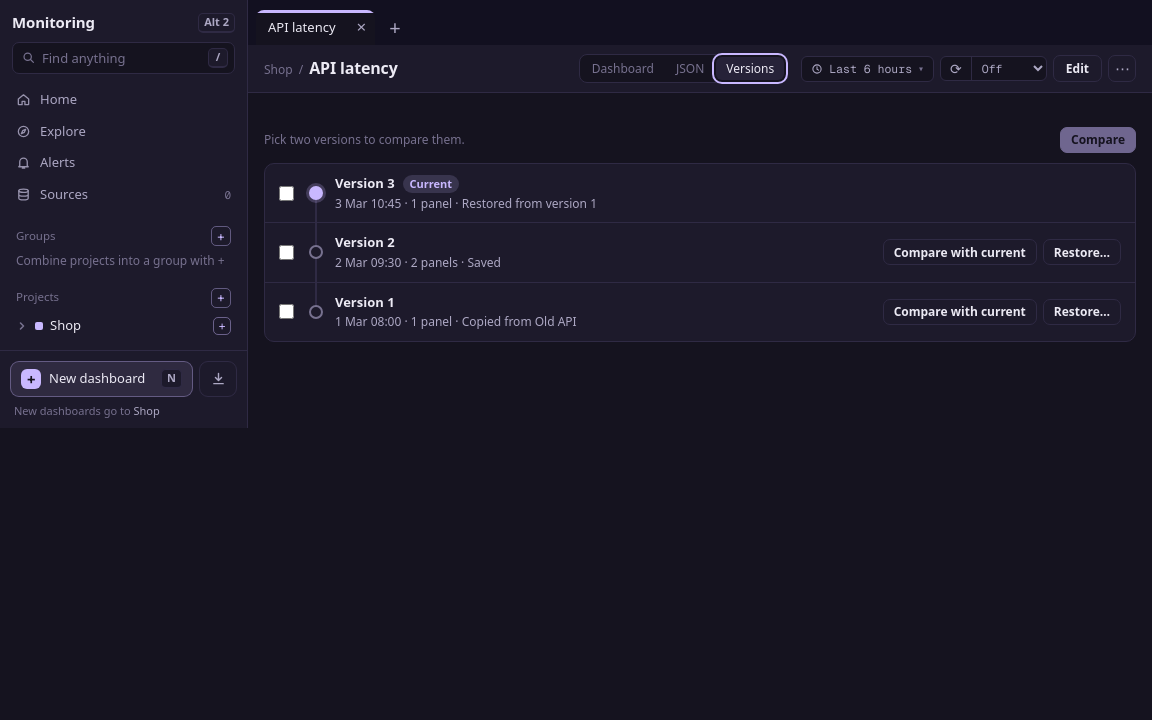
Test: The Versions tab › restore asks first and saves a new version
Earlier steps of the test are not shown.
Later steps or results of the test are not shown.
Click the button "Restore…" in the row of "2 Mar 09:30" at (1082, 252), box [1043,239,1121,265]
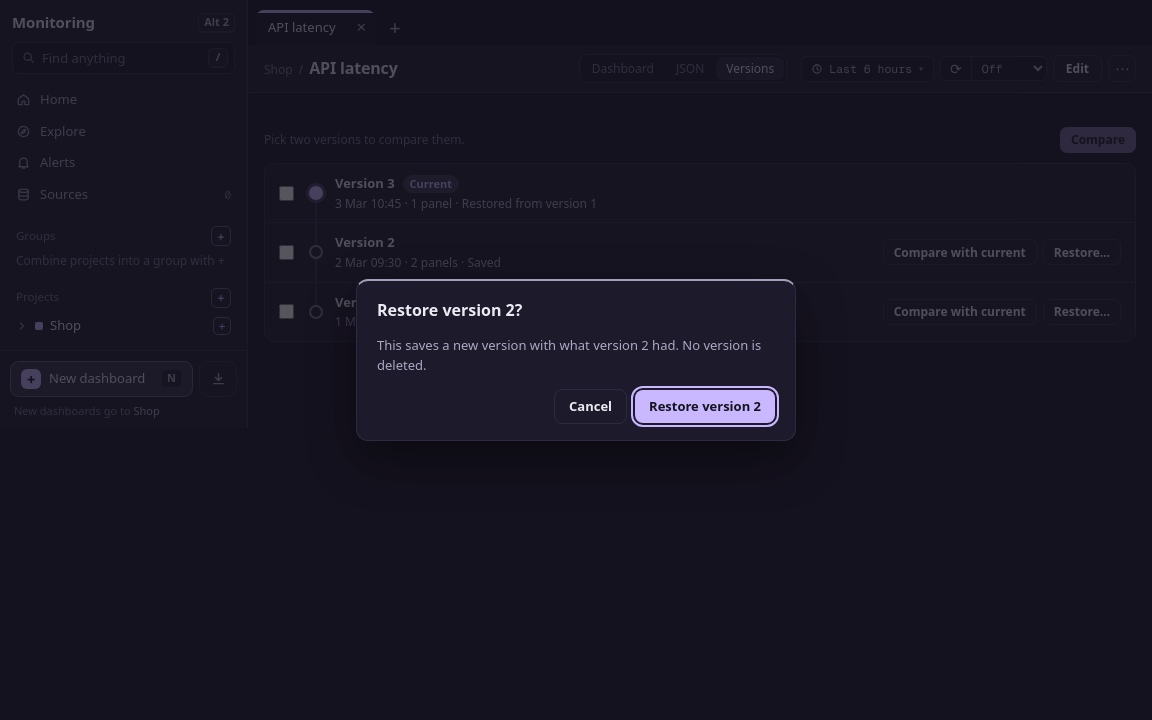
Expected: the text "This saves a new version with what version 2 had. No version is deleted." is shown, [377,336,775,375]
Press Escape
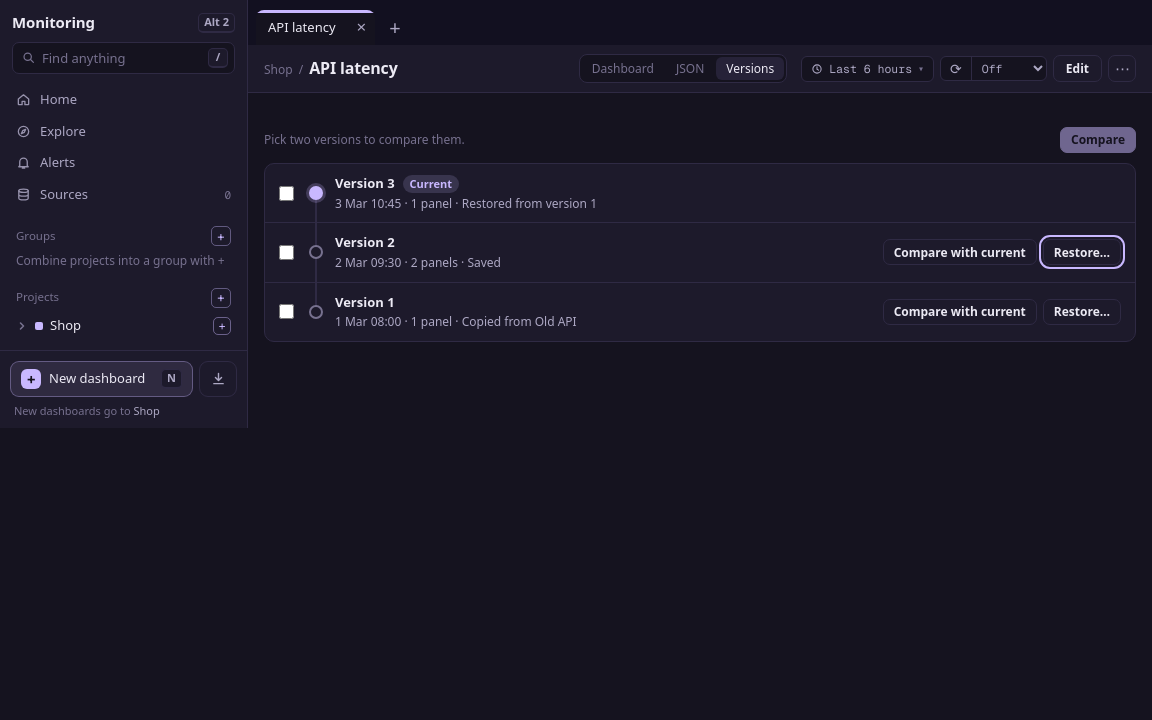
Expected: the dialog is gone
